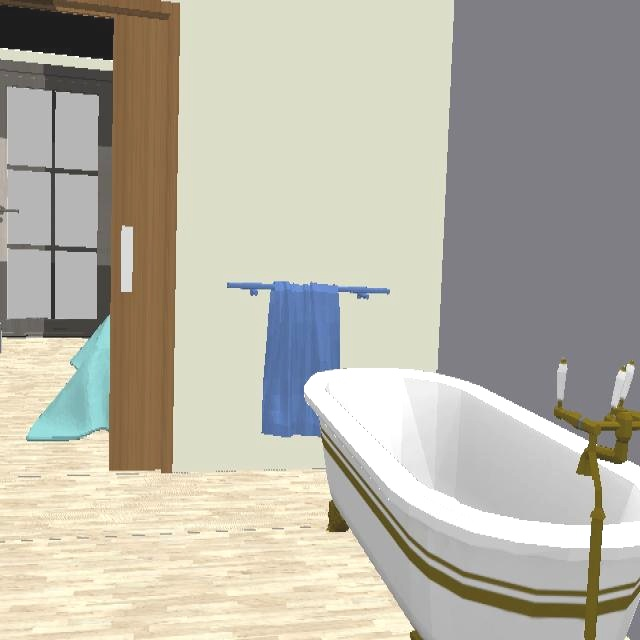bathtube: (305, 370, 593, 638), (596, 462, 640, 638)
bed: (27, 317, 109, 438)
